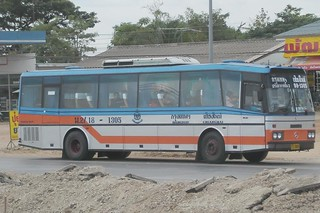bus: (16, 64, 315, 163)
